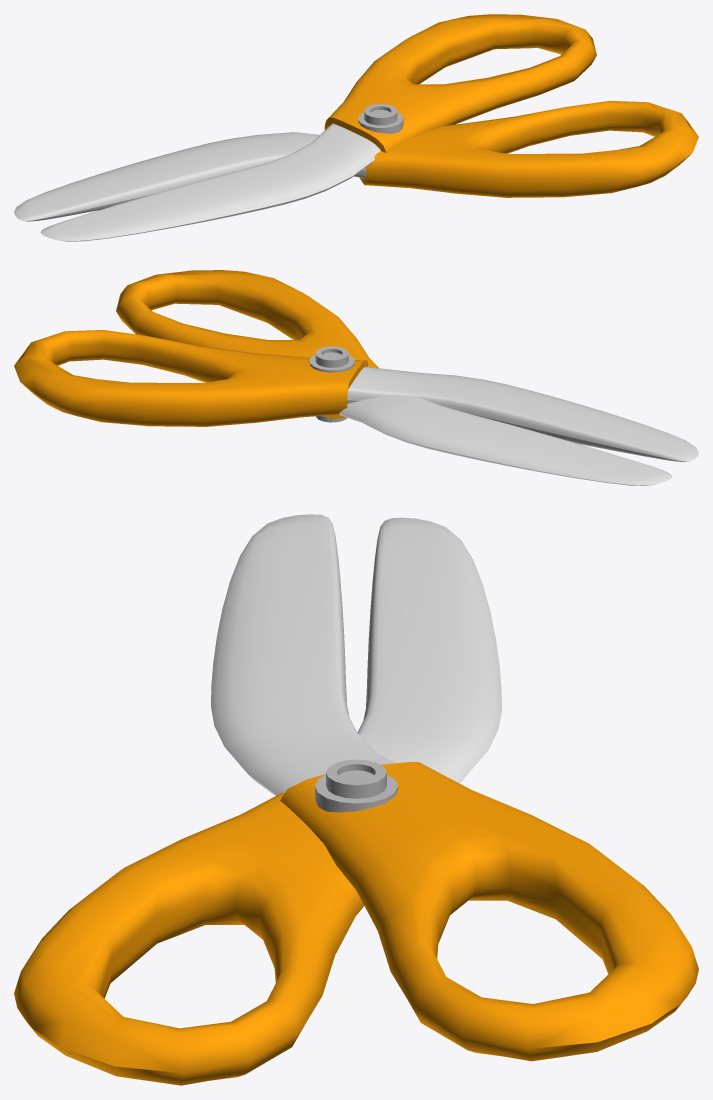
File: Scissors03.fbx
3 renders of one model, top to bottom at view 1: azimuth 30°, elevation 25°; view 2: azimuth 150°, elevation 25°; view 3: azimuth 270°, elevation 25°, orthographic. The views are drawn at different scales.
Visible parts, largest first — view 1: Scissors03; view 2: Scissors03; view 3: Scissors03.
Boxes of the visible parts, box(x1,y1,x2,y2) form: Scissors03: box(14, 14, 698, 241); Scissors03: box(14, 270, 698, 485); Scissors03: box(14, 514, 698, 1085).
Bounding box in the file's own units: 0.1779 × 0.0951 × 0.0173.
